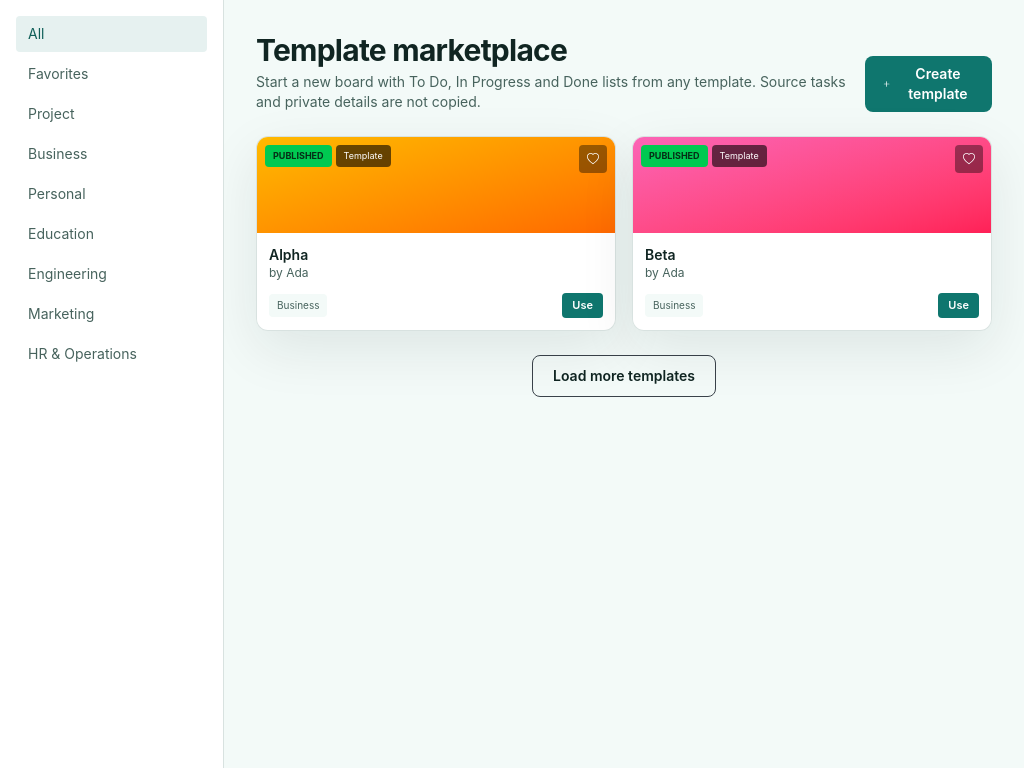
template discovery paging › appends the next page without duplicating a row and hides the control at the end
Expected: the button "Alpha" is shown, [269,245,603,265]
Expected: the button "Beta" is shown, [645,245,979,265]
Click the button "Load more templates" at (624, 376), box [532,354,716,396]
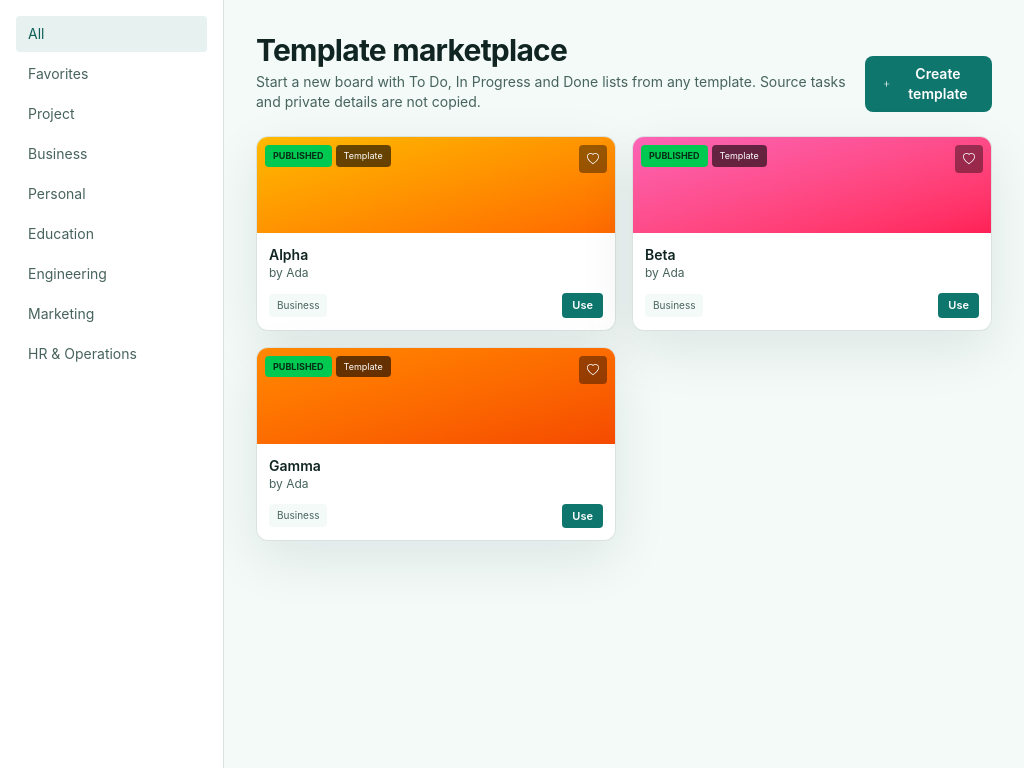
Expected: the number of buttons "Beta" is 1, [645,245,979,265]
Now the button "Gamma" is shown, box [269,456,603,476]
Now the button "Load more templates" is gone
